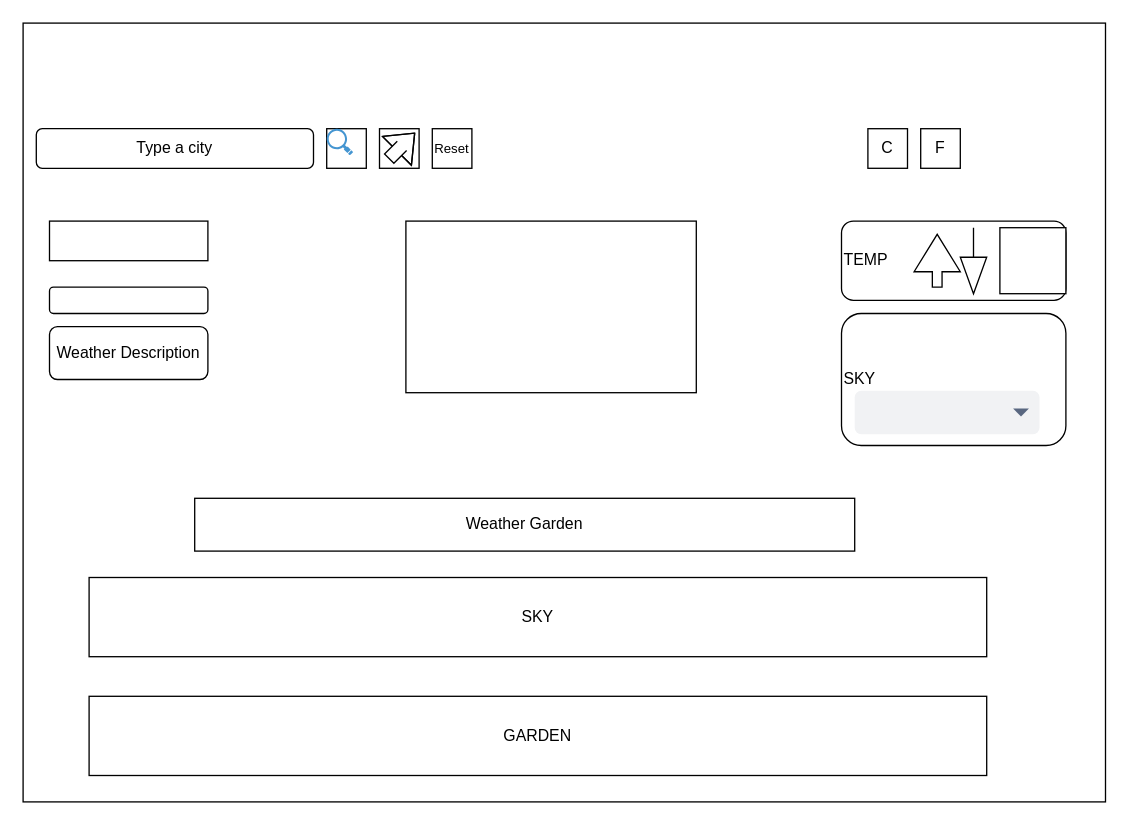
This 1129x825 diagram has some shape labels left out. The box of each missing label's shape, as (x1, y1, x2, y2) in pixels:
CITY NAME: (48, 220, 208, 261)
Cloudy: (854, 390, 1039, 434)
Date & Time: (48, 286, 208, 314)
Get Realtime Temp: (999, 226, 1066, 294)
WEATHER ICON + TEMP: (405, 220, 696, 393)
